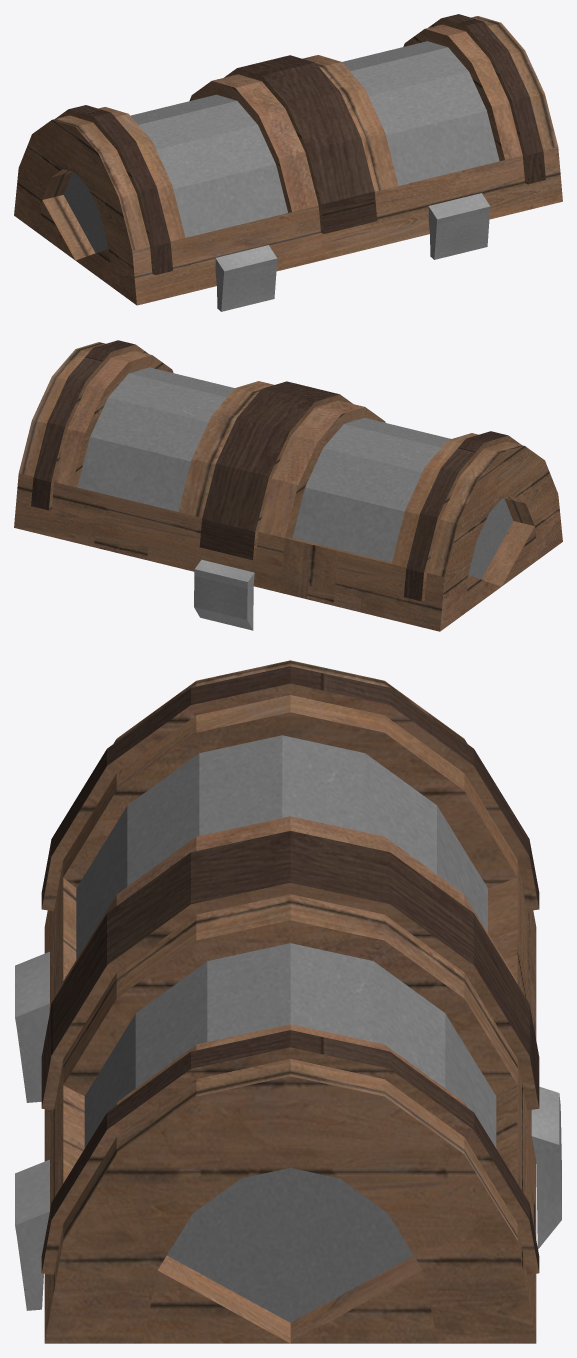
The model's file is Chest Lid.fbx.
The picture shows the model from 3 angles, top to bottom: view 1: azimuth 30°, elevation 25°; view 2: azimuth 150°, elevation 25°; view 3: azimuth 270°, elevation 25°; orthographic projection. The views are drawn at different scales.
Visible parts, largest first — view 1: pPlane3; view 2: pPlane3; view 3: pPlane3.
Boxes of the visible parts, box(x1,y1,x2,y2) form: pPlane3: box(14, 14, 562, 311); pPlane3: box(14, 340, 562, 631); pPlane3: box(15, 660, 561, 1343).
Bounding box in the file's own units: 2 × 0.8239 × 1.11.
